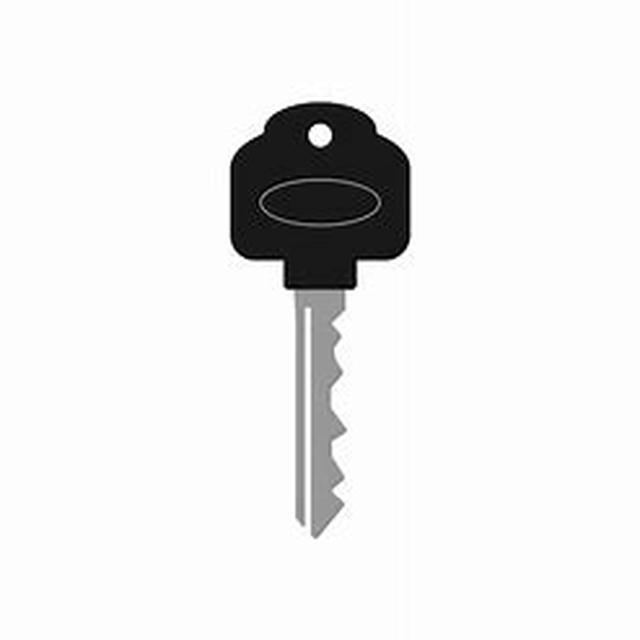key: (248, 75, 425, 541)
